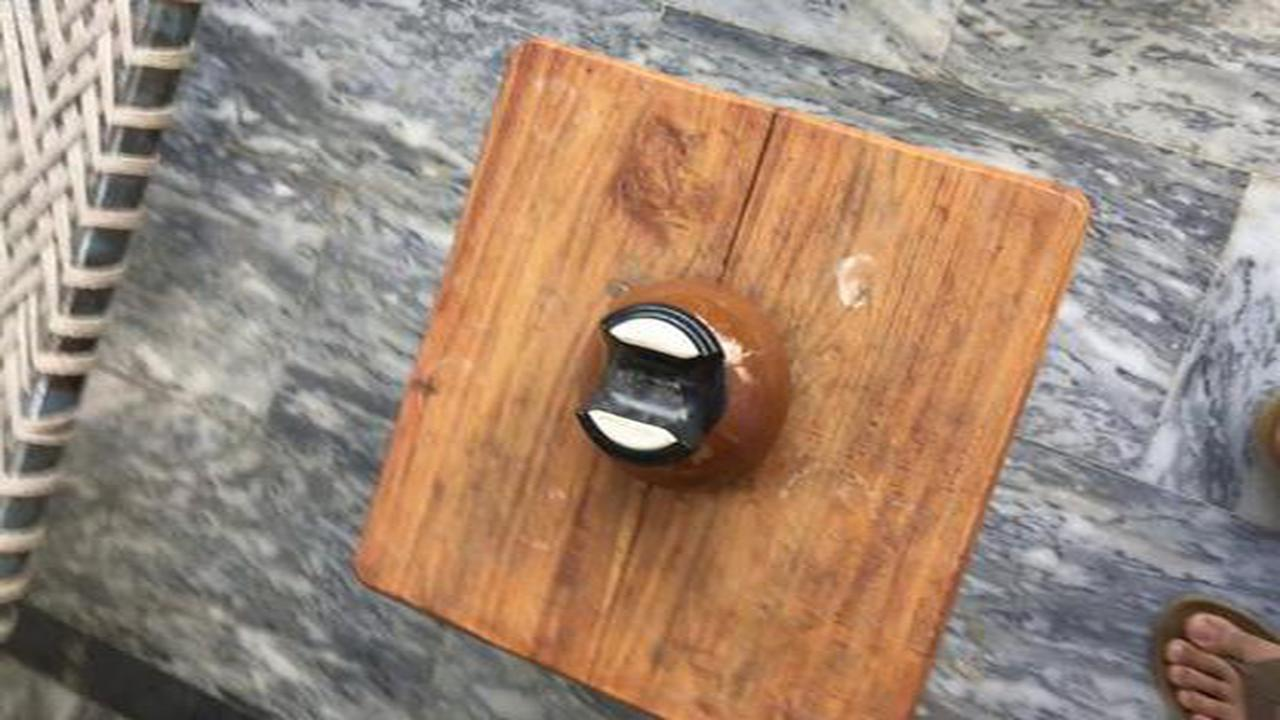insulator_pin: (527, 253, 819, 508)
